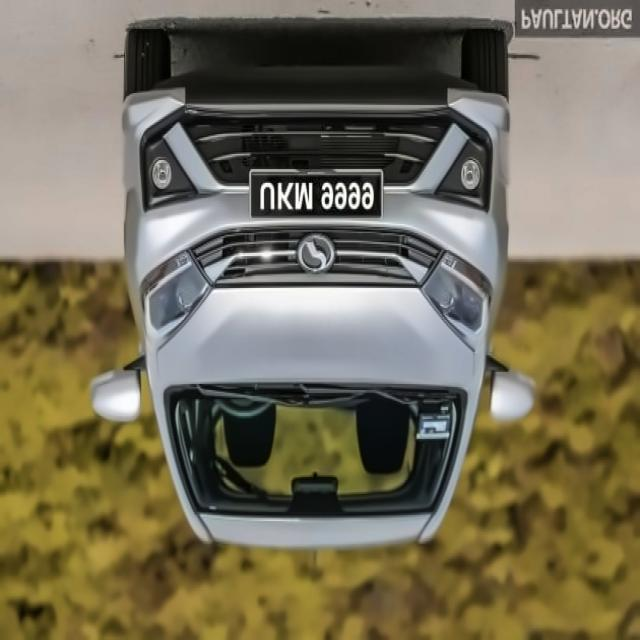car-plate: (250, 168, 383, 224)
